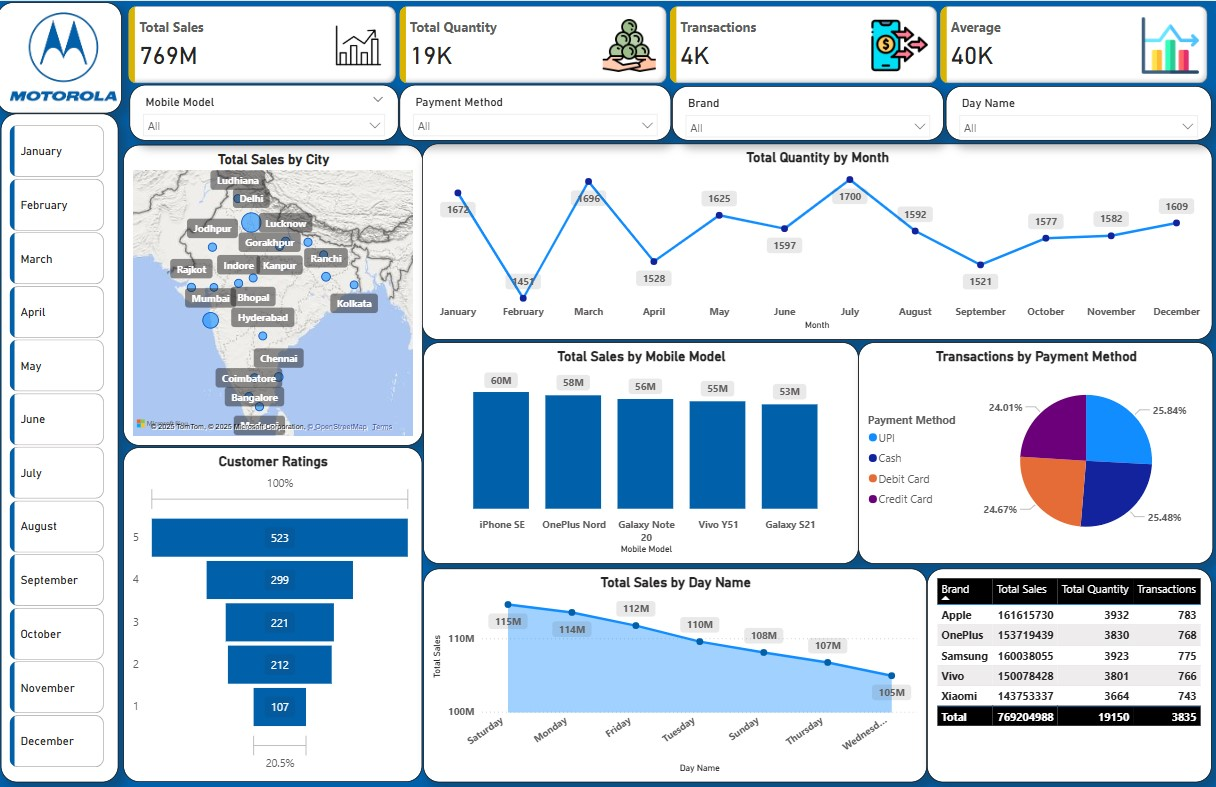

What the dashboard file says about the page in this screenshot:
{"tool":"powerbi","page":{"name":"Page 1","canvas":[1500,970],"ordinal":0},"visuals":[{"type":"shape","box":[0,1.5,153.8,136.9],"z":0},{"type":"image","box":[9.2,4.6,144.6,127.7],"z":1000},{"type":"shape","box":[4.6,138.5,144.6,823.1],"z":2000},{"type":"advancedSlicerVisual","fields":{"Values":["Sales_Data.Date.Variation.Date Hierarchy.Month"]},"box":[10.8,147.7,126.2,800],"z":3000},{"type":"cardVisual","fields":{"Data":["Sales_Data.Total Sales","Sales_Data.Total Quantity","Sales_Data.Transactions","Sales_Data.Average"]},"box":[157.1,1.4,1340,105.7],"z":4000},{"type":"map","fields":{"Category":["Sales_Data.City"],"Size":["Sales_Data.Total Sales"]},"box":[155.7,177.1,368.6,370],"z":5000},{"type":"lineChart","fields":{"Category":["Sales_Data.Date.Variation.Date Hierarchy.Month","Sales_Data.Date.Variation.Date Hierarchy.Day"],"Y":["Sales_Data.Total Quantity"]},"box":[522.9,175.7,972.9,241.4],"z":6000},{"type":"clusteredColumnChart","fields":{"Category":["Sales_Data.Mobile Model"],"Y":["Sales_Data.Total Sales"]},"box":[524.3,420,535.7,272.9],"z":7000},{"type":"pieChart","fields":{"Category":["Sales_Data.Payment Method"],"Y":["Sales_Data.Transactions"]},"box":[1060,420,437.1,272.9],"z":8000},{"type":"funnel","title":"Customer Ratings ","fields":{"Category":["Sales_Data.Customer Ratings"],"Y":["CountNonNull(Sales_Data.Customer Ratings)"]},"box":[155.4,549.2,367.7,412.3],"z":9000},{"type":"areaChart","fields":{"Category":["Sales_Data.Day Name"],"Y":["Sales_Data.Total Sales"]},"box":[524.6,698.5,620,263.1],"z":10000},{"type":"tableEx","fields":{"Values":["Sales_Data.Brand","Sales_Data.Total Sales","Sales_Data.Total Quantity","Sales_Data.Transactions"]},"box":[1144.6,698.5,350.8,263.1],"z":11000},{"type":"slicer","fields":{"Values":["Sales_Data.Mobile Model"]},"box":[162.9,102.9,331.4,68.6],"z":12000},{"type":"slicer","fields":{"Values":["Sales_Data.Payment Method"]},"box":[495.7,102.9,334.3,68.6],"z":13000},{"type":"slicer","fields":{"Values":["Sales_Data.Brand"]},"box":[831.4,104.3,334.3,67.1],"z":14000},{"type":"slicer","fields":{"Values":["Sales_Data.Day Name"]},"box":[1167.1,104.3,327.1,67.1],"z":15000}]}

Visuals, with their boxes in screenshot pixels (x1, y1, x2, y2), scaled from the page's 1500x970 canvas onto the 1216x787 screenshot:
shape: crop(0, 1, 125, 112)
image: crop(7, 4, 125, 107)
shape: crop(4, 112, 121, 780)
advancedSlicerVisual - Sales_Data.Date.Variation.Date Hierarchy.Month: crop(9, 120, 111, 769)
cardVisual - Sales_Data.Total Sales x Sales_Data.Total Quantity: crop(127, 1, 1214, 87)
map - Sales_Data.City x Sales_Data.Total Sales: crop(126, 144, 425, 444)
lineChart - Sales_Data.Date.Variation.Date Hierarchy.Month x Sales_Data.Date.Variation.Date Hierarchy.Day: crop(424, 143, 1213, 338)
clusteredColumnChart - Sales_Data.Mobile Model x Sales_Data.Total Sales: crop(425, 341, 859, 562)
pieChart - Sales_Data.Payment Method x Sales_Data.Transactions: crop(859, 341, 1214, 562)
"Customer Ratings " funnel: crop(126, 446, 424, 780)
areaChart - Sales_Data.Day Name x Sales_Data.Total Sales: crop(425, 567, 928, 780)
tableEx - Sales_Data.Brand x Sales_Data.Total Sales: crop(928, 567, 1212, 780)
slicer - Sales_Data.Mobile Model: crop(132, 83, 401, 139)
slicer - Sales_Data.Payment Method: crop(402, 83, 673, 139)
slicer - Sales_Data.Brand: crop(674, 85, 945, 139)
slicer - Sales_Data.Day Name: crop(946, 85, 1211, 139)
